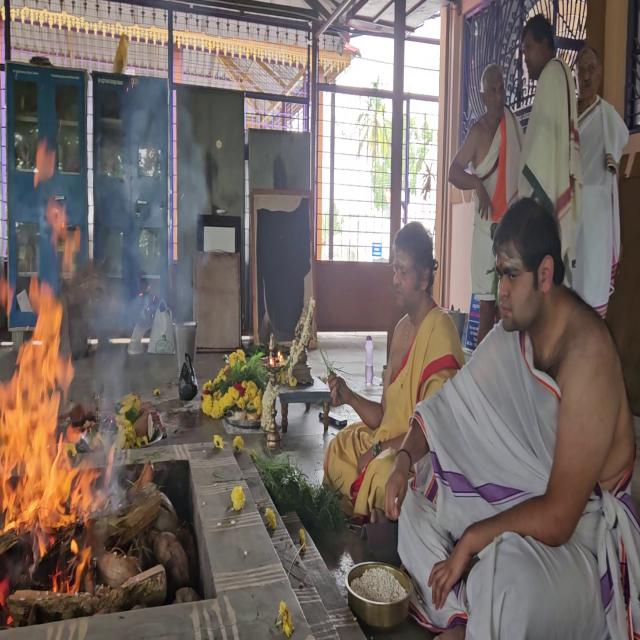fire: (0, 145, 104, 620)
